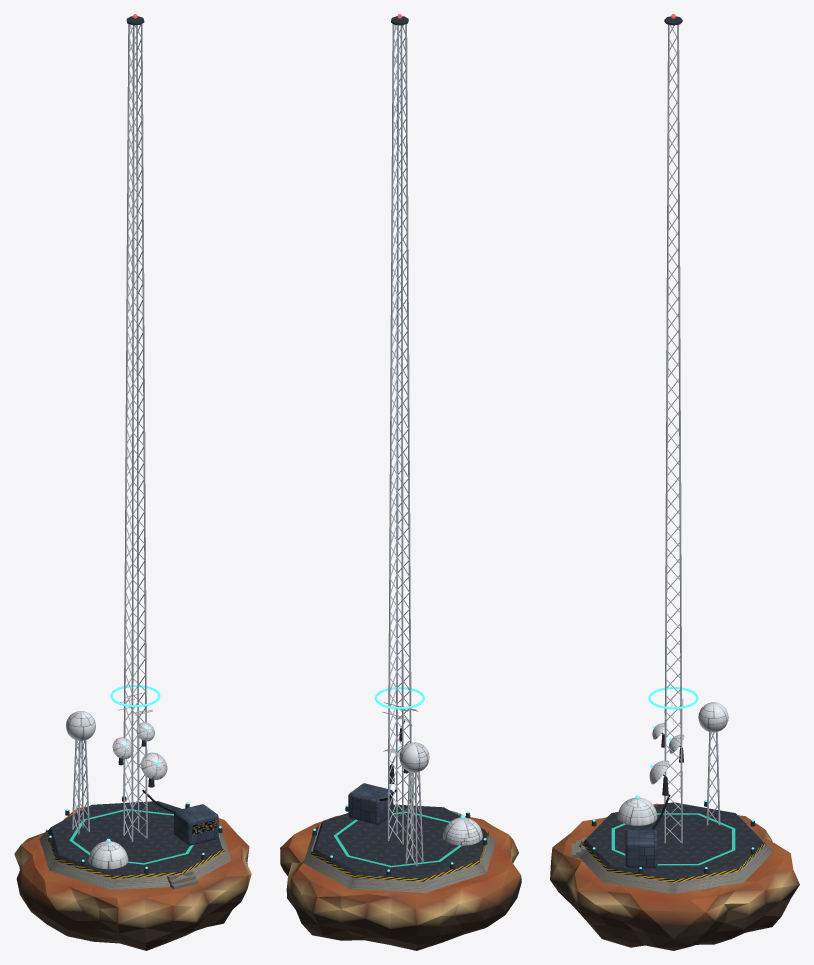
The picture shows the model from 3 angles, left to right: view 1: azimuth 30°, elevation 25°; view 2: azimuth 150°, elevation 25°; view 3: azimuth 270°, elevation 25°; orthographic projection.
Parts seen in each view (by area): view 1: object 1, object 4, object 2, object 436, object 434, object 489, object 3, anim:rot; view 2: object 1, object 4, object 2, object 436, object 434, object 489, object 3; view 3: object 1, object 4, object 2, object 436, object 434, object 489, object 3, object 5.
Boxes of the visible parts, x1,y1,x2,y2 form: object 1: (14,806,251,950); object 4: (47,801,222,875); object 2: (39,826,231,890); object 436: (174,804,218,845); object 434: (88,841,128,869); object 489: (66,711,95,740); object 3: (46,829,224,878); anim:rot: (141,752,167,779); object 1: (280,815,521,950); object 4: (312,804,487,878); object 2: (303,824,495,893); object 436: (348,783,393,824); object 434: (443,817,482,845); object 489: (399,742,429,772); object 3: (310,831,489,881); object 1: (550,803,799,950); object 4: (583,802,763,879); object 2: (579,816,772,894); object 436: (625,829,657,867); object 434: (617,797,657,825); object 489: (698,702,728,732); object 3: (581,841,765,882); object 5: (611,813,735,865).
Size of the model in its own units: 6.25 by 24.96 by 6.25.
Materials: 15 (6 with a texture image).
